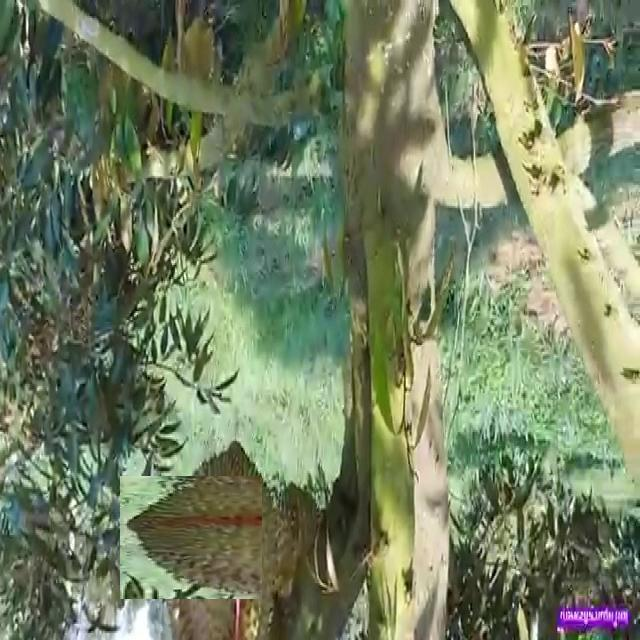durian: (140, 455, 305, 619), (262, 476, 330, 607)
